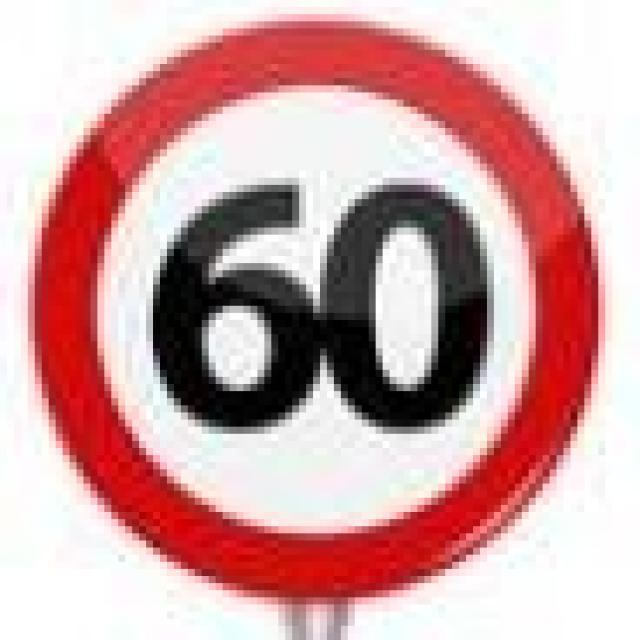speed_limit_60: (28, 15, 598, 598)
